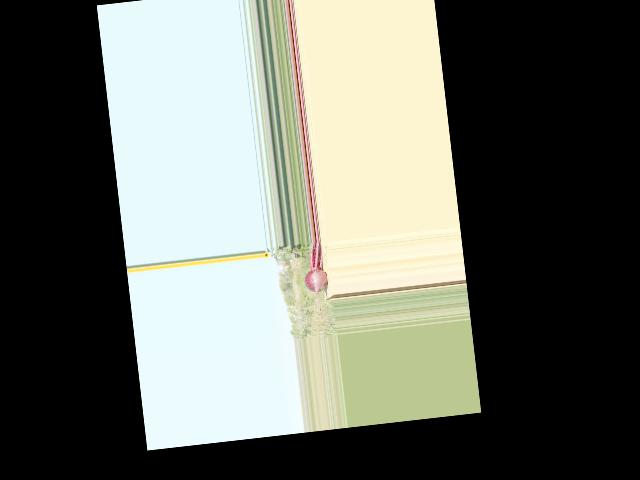beet: (300, 240, 333, 334)
